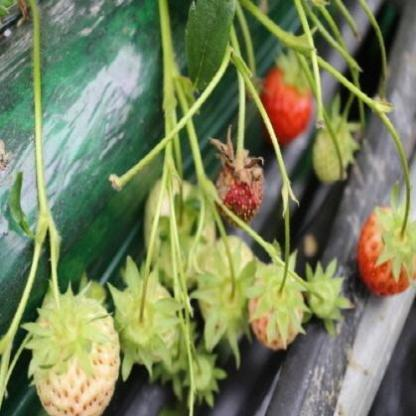Strawberry_Gray_Mold: (208, 122, 266, 232)
